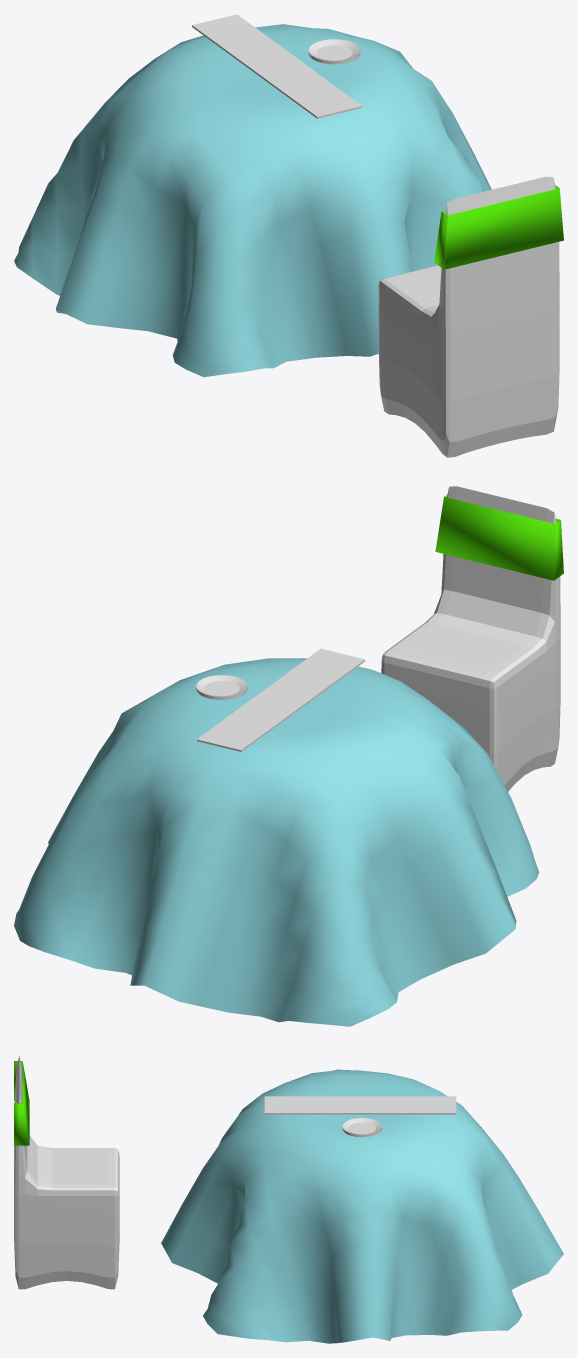
Rendered from PFScene5.gltf.
3 views of the same model, one above another, from view 1: azimuth 30°, elevation 25°; view 2: azimuth 150°, elevation 25°; view 3: azimuth 270°, elevation 25° (orthographic). The views are drawn at different scales.
Parts seen in each view (by area): view 1: TableCloth, Chair.001, ChairRunner, TableRunner, Plate; view 2: TableCloth, Chair.001, ChairRunner, TableRunner, Plate; view 3: TableCloth, Chair.001, TableRunner, ChairRunner, Plate.
Boxes of the visible parts, bbox=[...] form: TableCloth: bbox=[14, 24, 491, 377]; Chair.001: bbox=[378, 176, 559, 457]; ChairRunner: bbox=[434, 185, 563, 269]; TableRunner: bbox=[192, 14, 362, 118]; Plate: bbox=[308, 39, 360, 64]; TableCloth: bbox=[14, 658, 538, 1026]; Chair.001: bbox=[381, 486, 560, 791]; ChairRunner: bbox=[435, 494, 563, 580]; TableRunner: bbox=[197, 648, 365, 751]; Plate: bbox=[196, 675, 247, 699]; TableCloth: bbox=[161, 1069, 563, 1343]; Chair.001: bbox=[14, 1056, 119, 1289]; TableRunner: bbox=[264, 1096, 456, 1114]; ChairRunner: bbox=[14, 1061, 29, 1145]; Plate: bbox=[342, 1118, 381, 1137].
Size of the model in its own units: 152 by 90.11 by 208.
